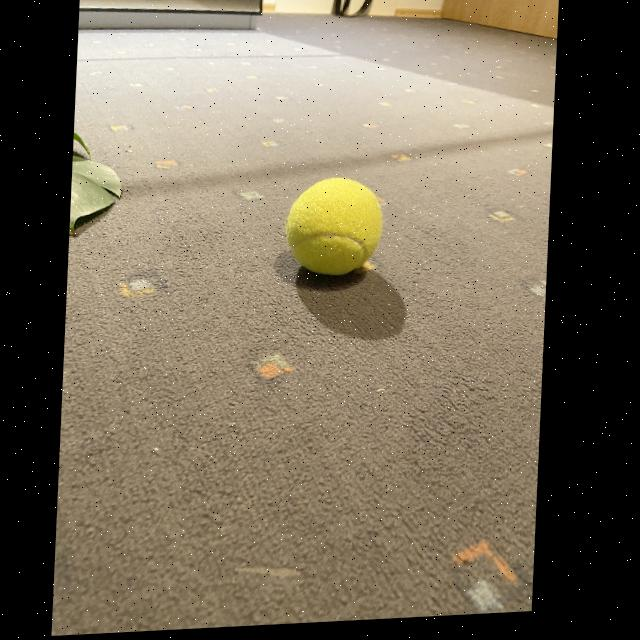Tennisball: (286, 178, 382, 275)
